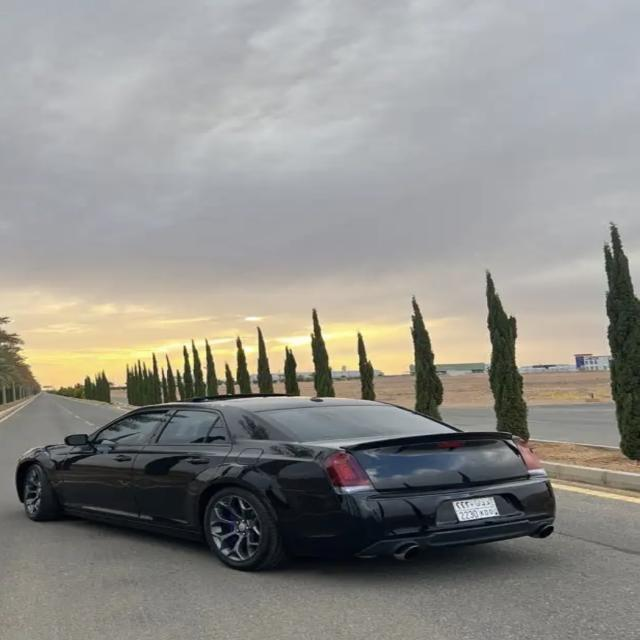license_plate: (452, 498, 501, 522)
